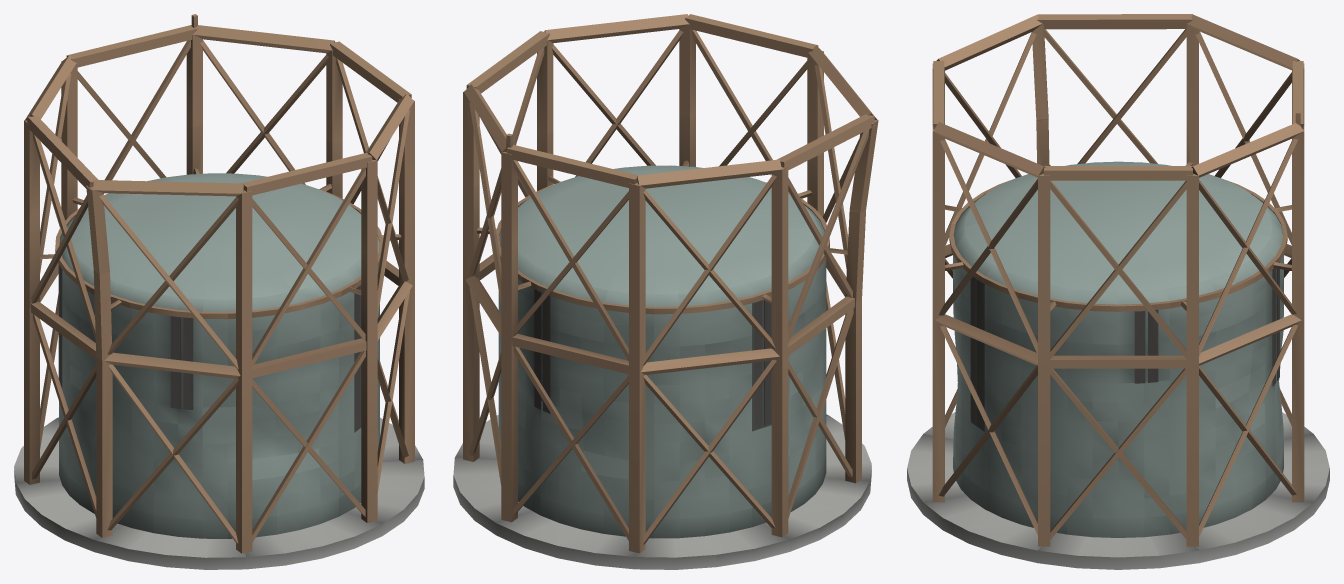
The model's file is gas_holder.glb.
3 views of the same model, side by side, from view 1: azimuth 30°, elevation 25°; view 2: azimuth 150°, elevation 25°; view 3: azimuth 270°, elevation 25° (orthographic). The views are drawn at different scales.
Parts seen in each view (by area): view 1: static; view 2: static; view 3: static.
Boxes of the visible parts, box(x1,y1,x2,y2) form: static: box(14, 14, 424, 569); static: box(453, 14, 878, 569); static: box(907, 14, 1329, 569).
Bounding box in the file's own units: 13.8 × 14.4 × 13.8.
